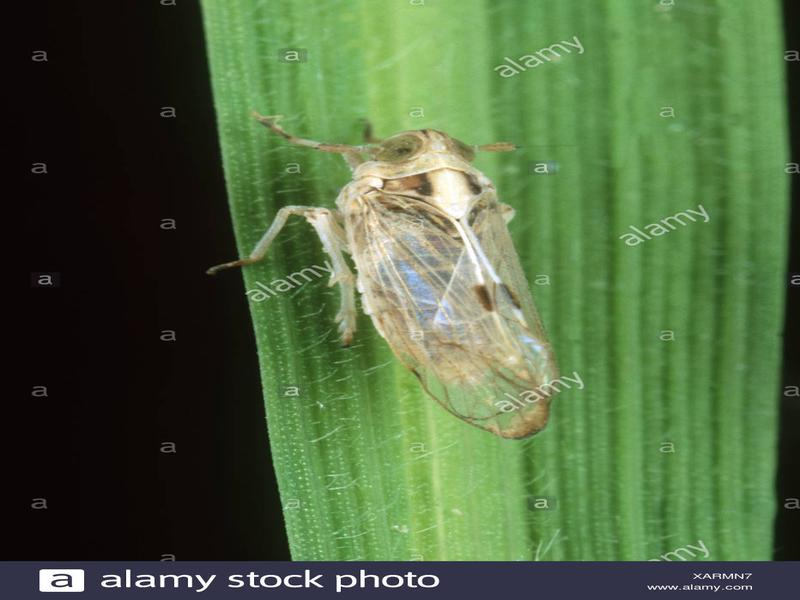White_backed_plant_hopper: (272, 114, 608, 447)
